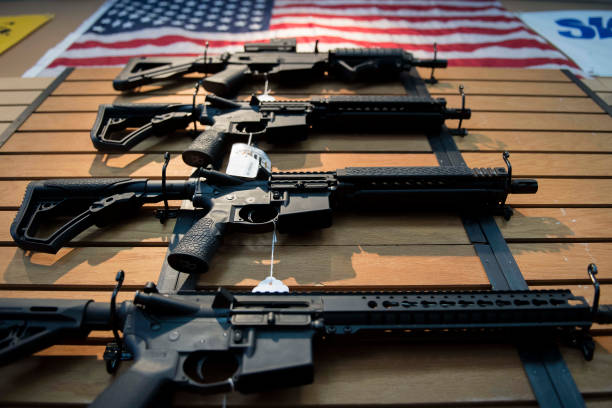rifle: (2, 271, 612, 406), (9, 170, 560, 271), (86, 97, 489, 161), (105, 40, 459, 94)
